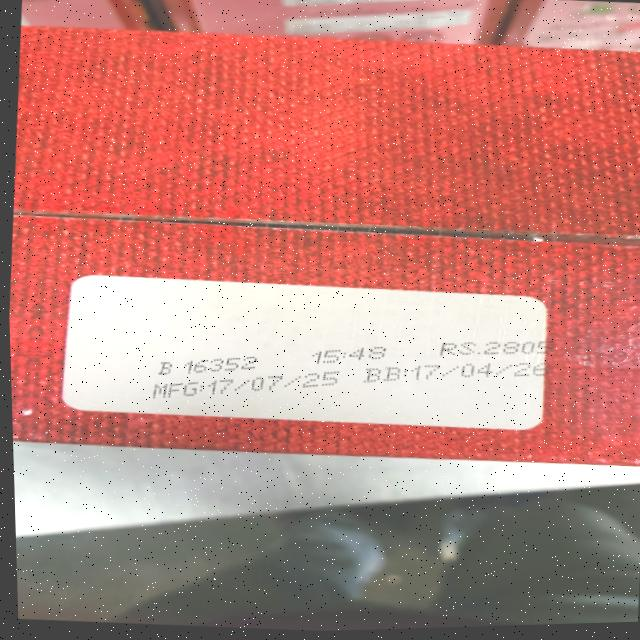BB: (360, 350, 550, 396)
Batch: (158, 349, 260, 380)
MFG: (144, 360, 343, 411)
RS: (437, 334, 550, 362)
TimeStamp: (313, 342, 391, 368)
